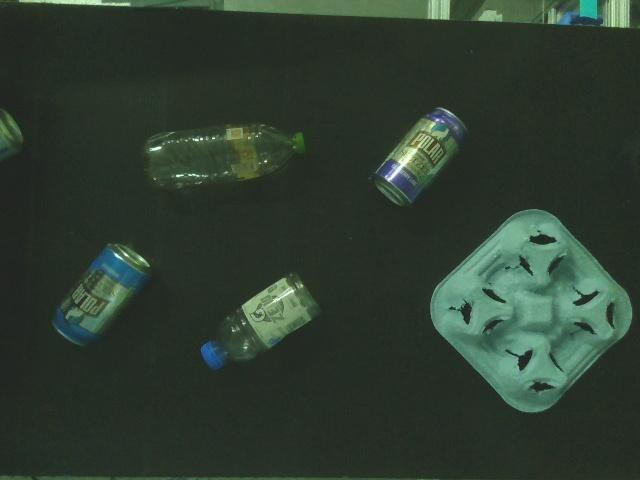cardboard: (428, 207, 634, 416)
metal: (48, 239, 158, 350), (368, 104, 473, 210), (0, 104, 27, 164)
plastic: (198, 269, 328, 375), (138, 122, 307, 192)
